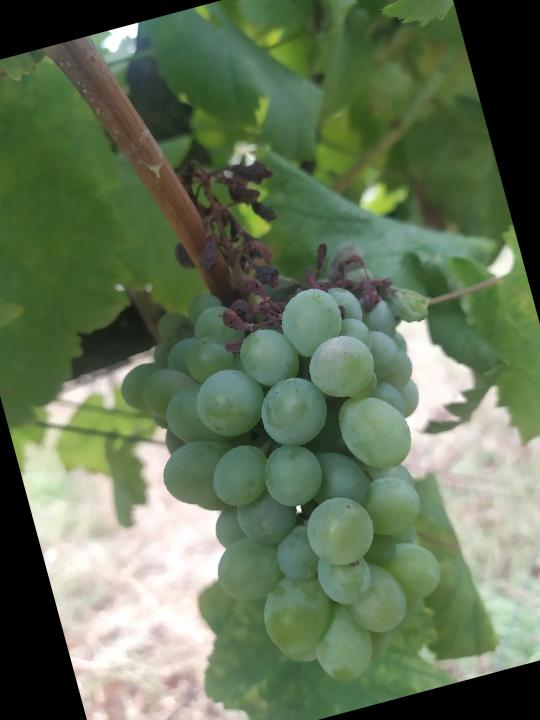grape: (62, 106, 523, 720)
